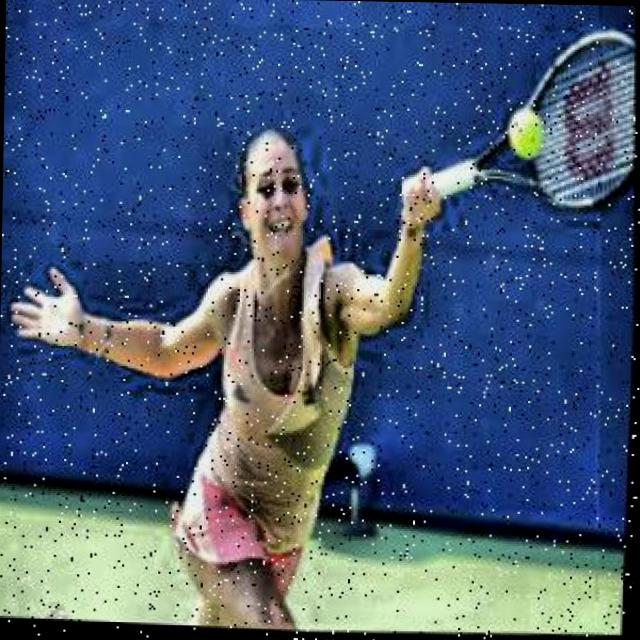Tennis Ball: (509, 108, 544, 162)
